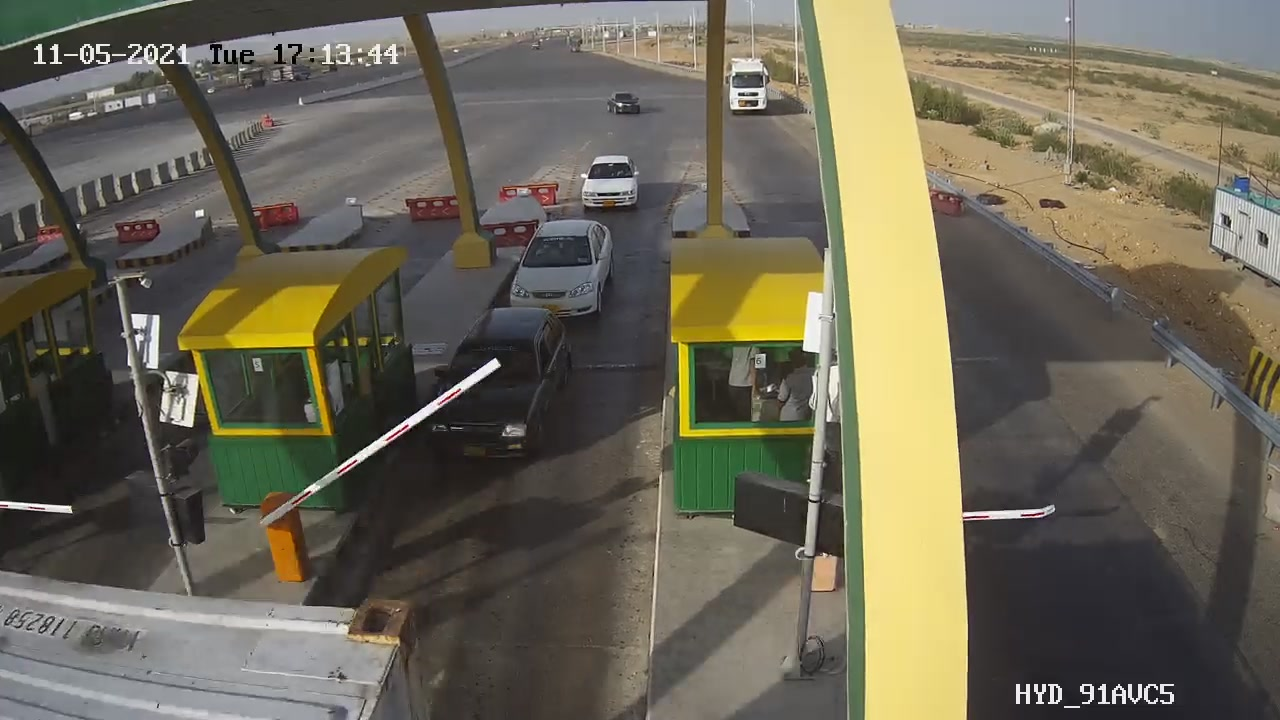F1: (413, 303, 573, 477), (500, 208, 625, 336)
